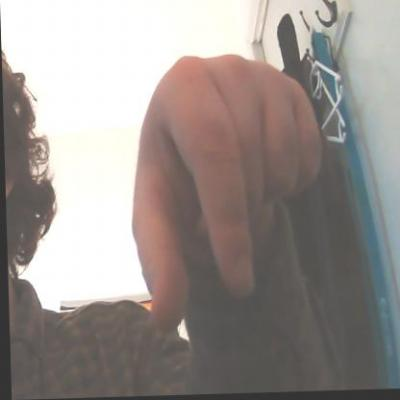hand: (124, 52, 328, 336)
